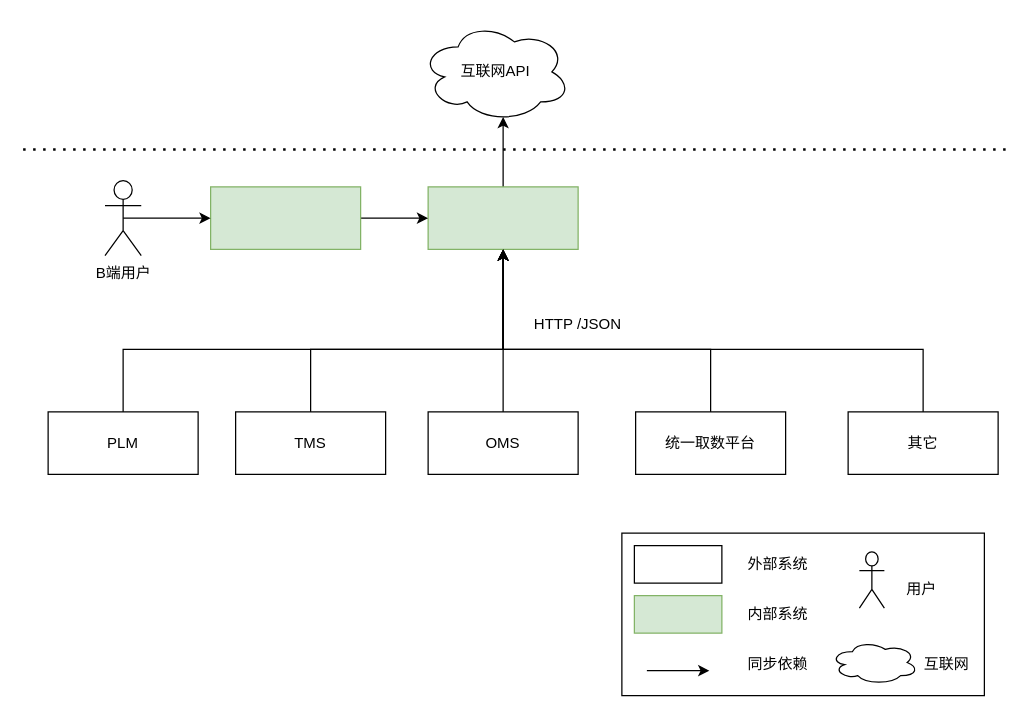
The diagram is 1034 pixels wide and 718 high, and some of its shapes have lost their labels. The shapes that lost their labels are listed below. From the top down, each one's centre as x and y in pixels, then its label:
point 285,217: 奇门后台管理
point 502,217: 奇门
point 871,579: Actor
